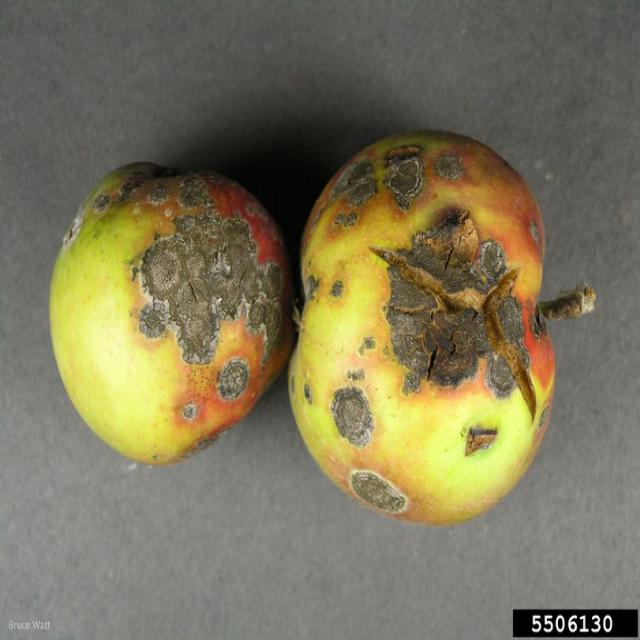Rotten Apple: (311, 83, 607, 522), (37, 133, 276, 492)
